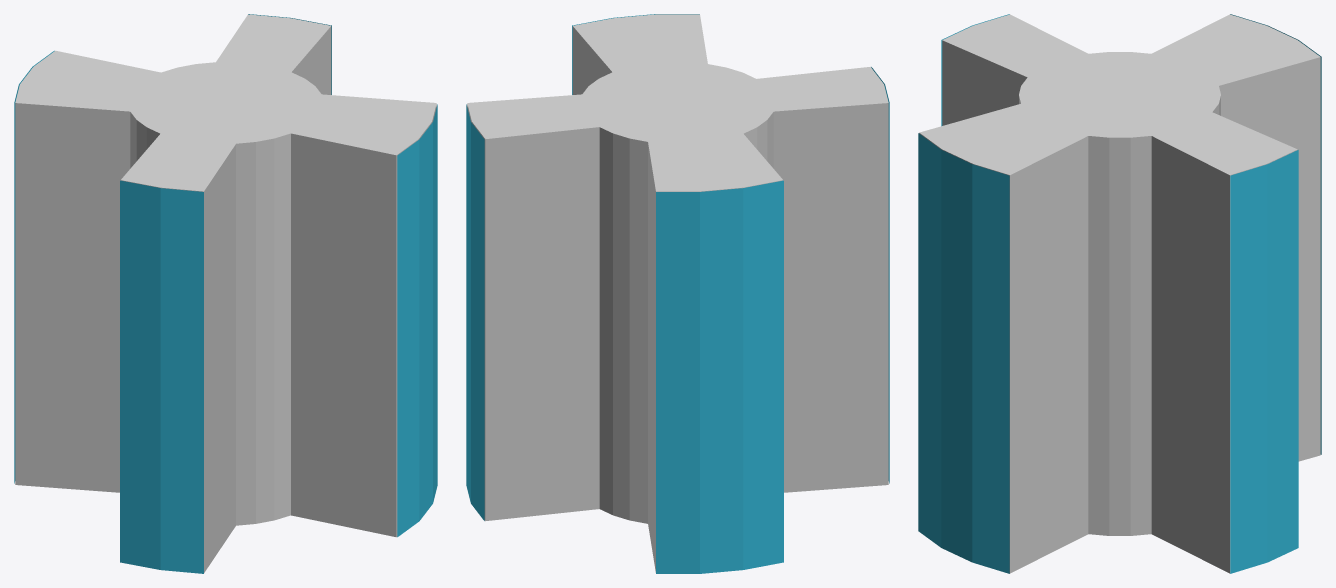
The model's file is Baptiste - Croix obsatcle V1.fbx.
3 renders of one model, left to right at view 1: azimuth 30°, elevation 25°; view 2: azimuth 150°, elevation 25°; view 3: azimuth 270°, elevation 25°, orthographic. The views are drawn at different scales.
Visible parts, largest first — view 1: Cylinder.003, Cylinder.004; view 2: Cylinder.003, Cylinder.004; view 3: Cylinder.003, Cylinder.004.
Part boxes in pixels (bbox=[...]): Cylinder.003: bbox=[15, 14, 436, 572]; Cylinder.004: bbox=[14, 14, 437, 573]; Cylinder.003: bbox=[467, 14, 888, 572]; Cylinder.004: bbox=[466, 14, 889, 573]; Cylinder.003: bbox=[919, 14, 1320, 573]; Cylinder.004: bbox=[918, 14, 1321, 573].
Size of the model in its own units: 26.32 by 30.24 by 27.76.
